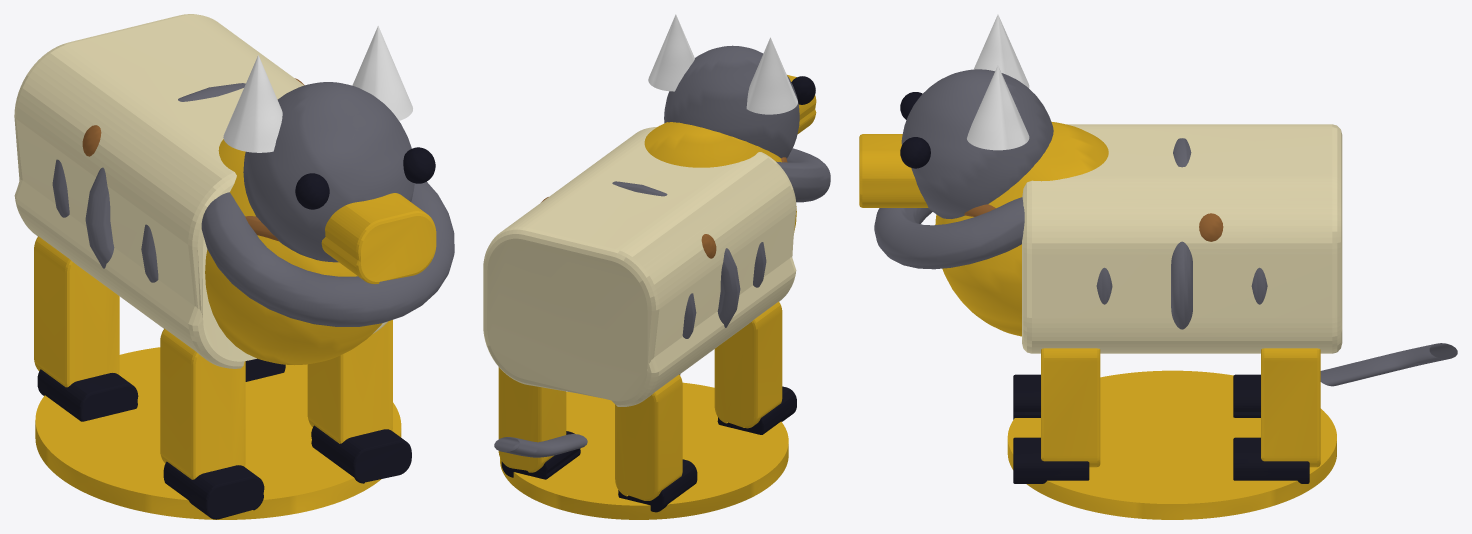
File: 1328_中国古代寓言_老虎.glb
The picture shows the model from 3 angles, left to right: view 1: azimuth 30°, elevation 25°; view 2: azimuth 150°, elevation 25°; view 3: azimuth 270°, elevation 25°; orthographic projection. The views are drawn at different scales.
Parts seen in each view (by area): view 1: card_1328; view 2: card_1328; view 3: card_1328.
Part boxes in pixels (left/top/right/bottom): card_1328: left=14, top=14, right=454, bottom=519; card_1328: left=483, top=14, right=830, bottom=519; card_1328: left=859, top=14, right=1457, bottom=519.
Bounding box in the file's own units: 0.6917 × 1 × 1.31.
